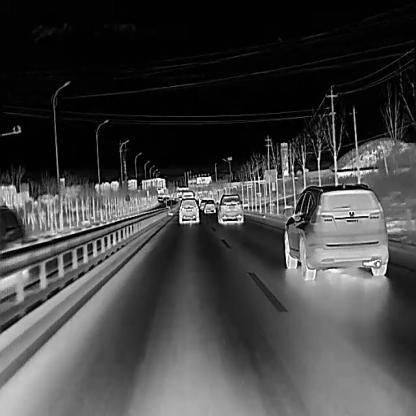car: (282, 181, 388, 280), (215, 192, 243, 224), (178, 196, 198, 223), (202, 199, 215, 213)
